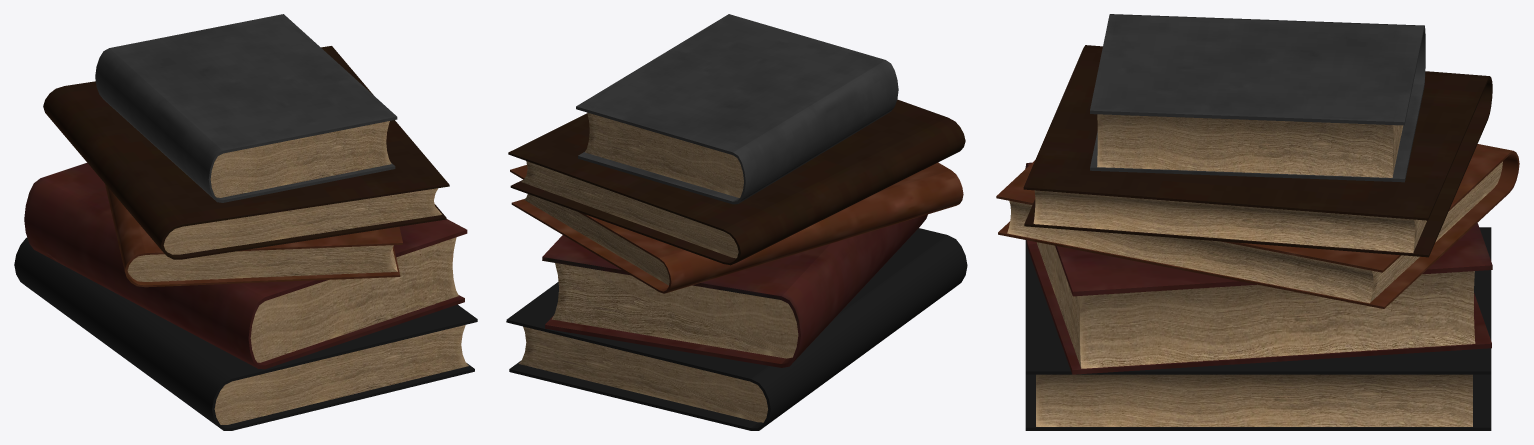
Rendered from scene-traansformed.glb.
3 renders of one model, left to right at view 1: azimuth 30°, elevation 25°; view 2: azimuth 150°, elevation 25°; view 3: azimuth 270°, elevation 25°, orthographic. The views are drawn at different scales.
Visible parts, largest first — view 1: defaultMaterial (×2); view 2: defaultMaterial (×2); view 3: defaultMaterial (×2).
Part boxes in pixels (<box>): defaultMaterial (×2): <box>14,14,477,430</box>; defaultMaterial (×2): <box>506,14,967,430</box>; defaultMaterial (×2): <box>996,14,1519,430</box>.
Size of the model in its own units: 1.82 by 1.23 by 2.
2 materials, 2 textured.
